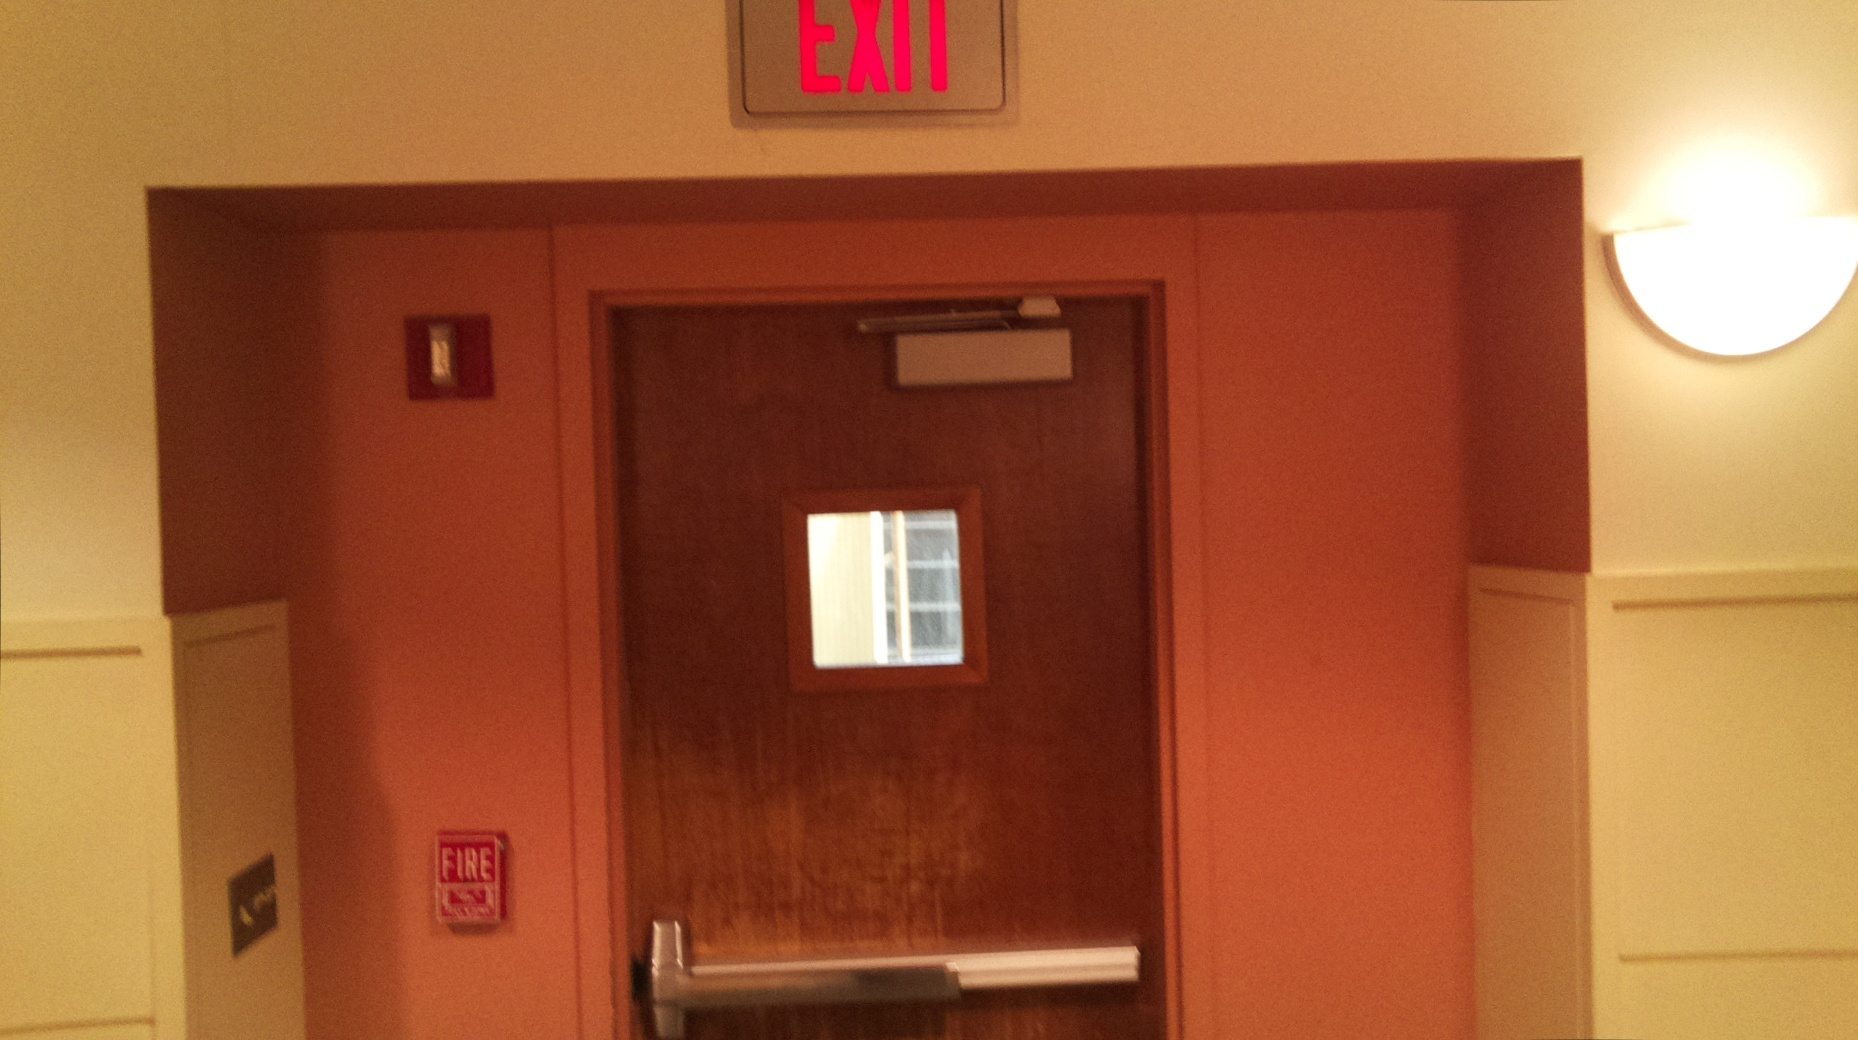exit sign: (721, 1, 1029, 138)
